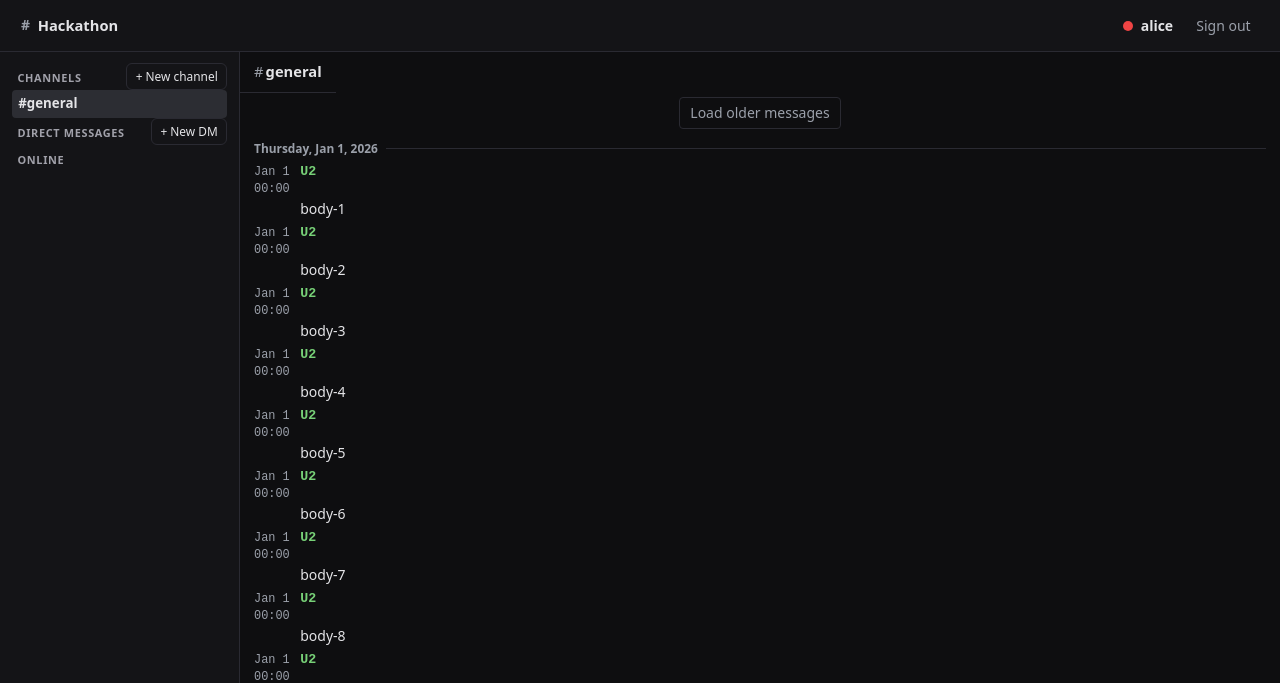
Scenario: test_web_chat_load_older_button_visible_only_after_full_page › renders the Load older button when the initial page is full and clicking it requests before=<oldest>
The image size is (1280, 683).
Step 1. Click the button with test id "load-older-button" → [760, 113], box [679,97,841,130]
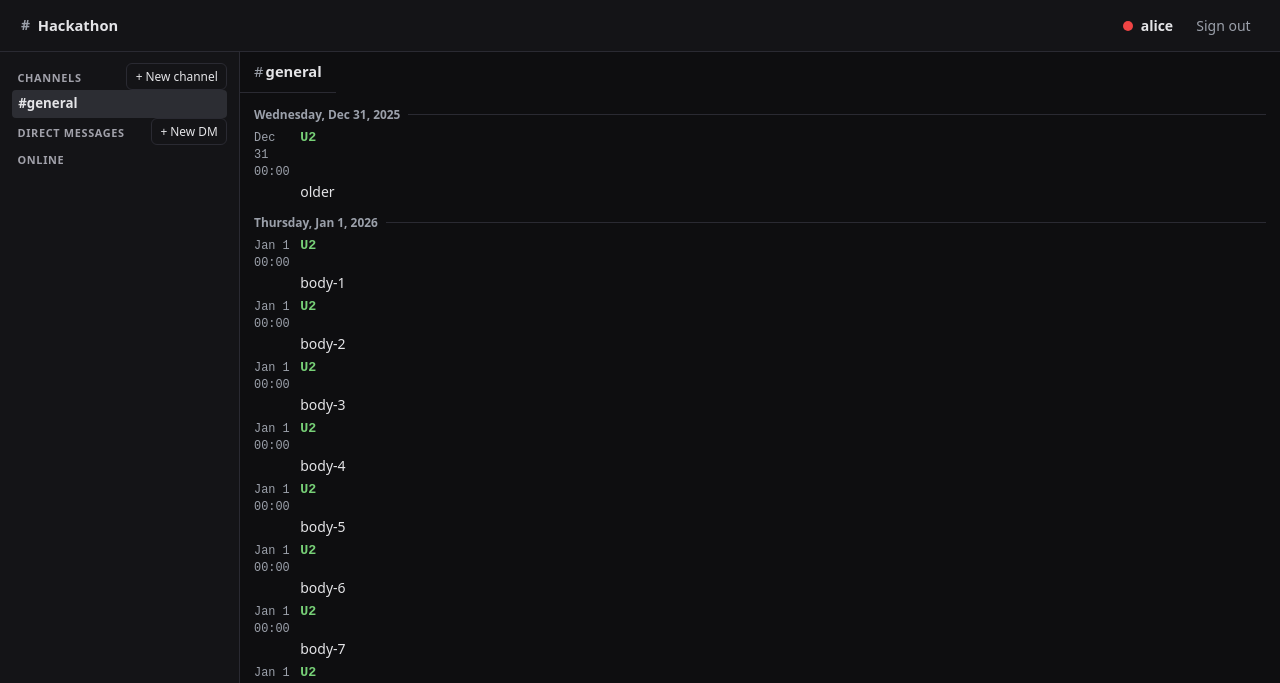
Expected: the text with class "msg__body" reads "older", [300,182,335,201]
Result: the button with test id "load-older-button" is gone
